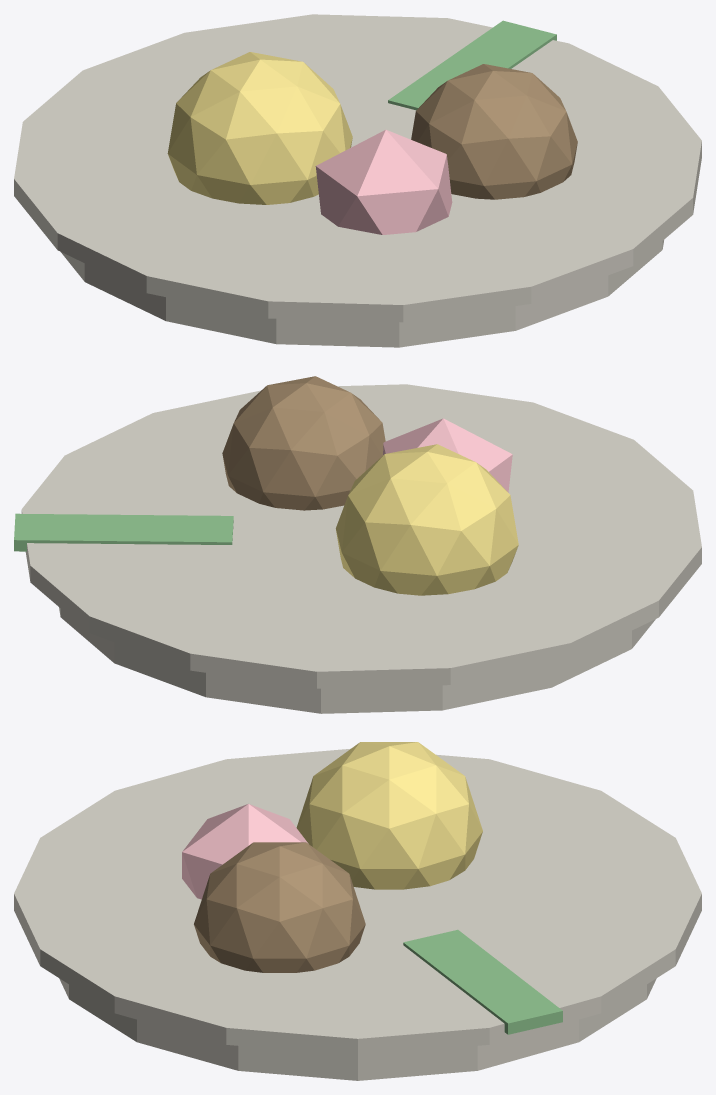
Rendered from 18-Casas_decor_plato_frutas.glb.
The picture shows the model from 3 angles, top to bottom: view 1: azimuth 30°, elevation 25°; view 2: azimuth 150°, elevation 25°; view 3: azimuth 270°, elevation 25°; orthographic projection.
Parts seen in each view (by area): view 1: SM_PlatoF_Borde, SM_PlatoF_Mango, SM_PlatoF_Coco, SM_PlatoF_Plato, SM_PlatoF_Pasion, SM_PlatoF_Hoja; view 2: SM_PlatoF_Borde, SM_PlatoF_Mango, SM_PlatoF_Coco, SM_PlatoF_Plato, SM_PlatoF_Hoja, SM_PlatoF_Pasion; view 3: SM_PlatoF_Borde, SM_PlatoF_Mango, SM_PlatoF_Coco, SM_PlatoF_Plato, SM_PlatoF_Hoja, SM_PlatoF_Pasion.
Part boxes in pixels (bbox=[...]): SM_PlatoF_Borde: bbox=[14, 14, 701, 322]; SM_PlatoF_Mango: bbox=[167, 52, 352, 204]; SM_PlatoF_Coco: bbox=[411, 64, 577, 199]; SM_PlatoF_Plato: bbox=[60, 240, 663, 347]; SM_PlatoF_Pasion: bbox=[315, 129, 452, 234]; SM_PlatoF_Hoja: bbox=[388, 20, 556, 110]; SM_PlatoF_Borde: bbox=[21, 384, 701, 688]; SM_PlatoF_Mango: bbox=[335, 444, 518, 595]; SM_PlatoF_Coco: bbox=[222, 376, 385, 510]; SM_PlatoF_Plato: bbox=[59, 607, 655, 713]; SM_PlatoF_Hoja: bbox=[14, 513, 233, 551]; SM_PlatoF_Pasion: bbox=[383, 418, 512, 492]; SM_PlatoF_Borde: bbox=[14, 748, 701, 1055]; SM_PlatoF_Mango: bbox=[296, 742, 482, 889]; SM_PlatoF_Coco: bbox=[194, 842, 365, 972]; SM_PlatoF_Plato: bbox=[59, 978, 656, 1080]; SM_PlatoF_Hoja: bbox=[403, 929, 562, 1034]; SM_PlatoF_Pasion: bbox=[182, 804, 308, 899].
Bounding box in the file's own units: 0.44 × 0.122 × 0.44.
